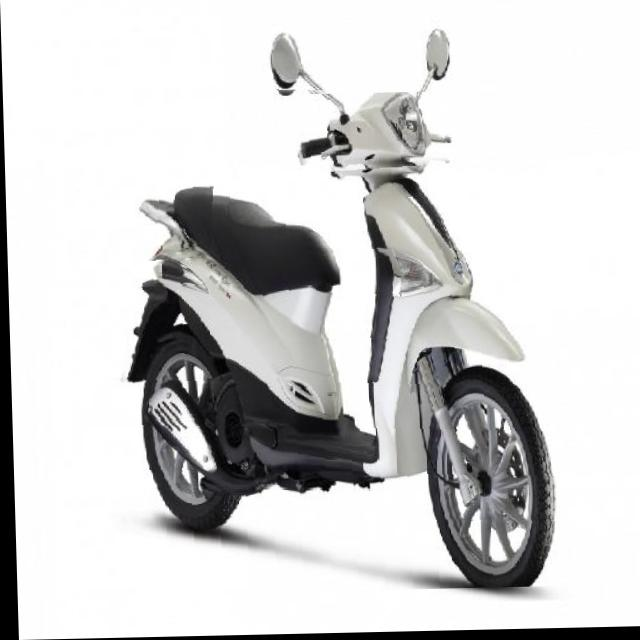All: (102, 80, 556, 596)
Head: (292, 93, 453, 175)
Tail: (133, 186, 214, 263)
